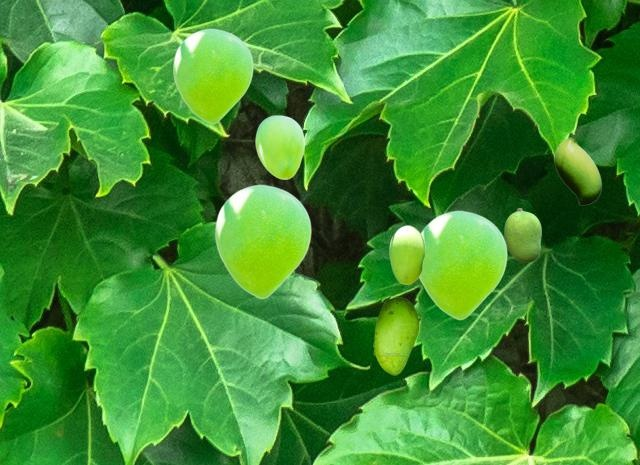green_mango: (215, 184, 310, 298), (419, 210, 506, 319), (173, 28, 252, 123), (373, 297, 418, 374), (554, 137, 600, 204), (255, 115, 303, 178), (389, 225, 424, 283), (504, 208, 540, 261)
